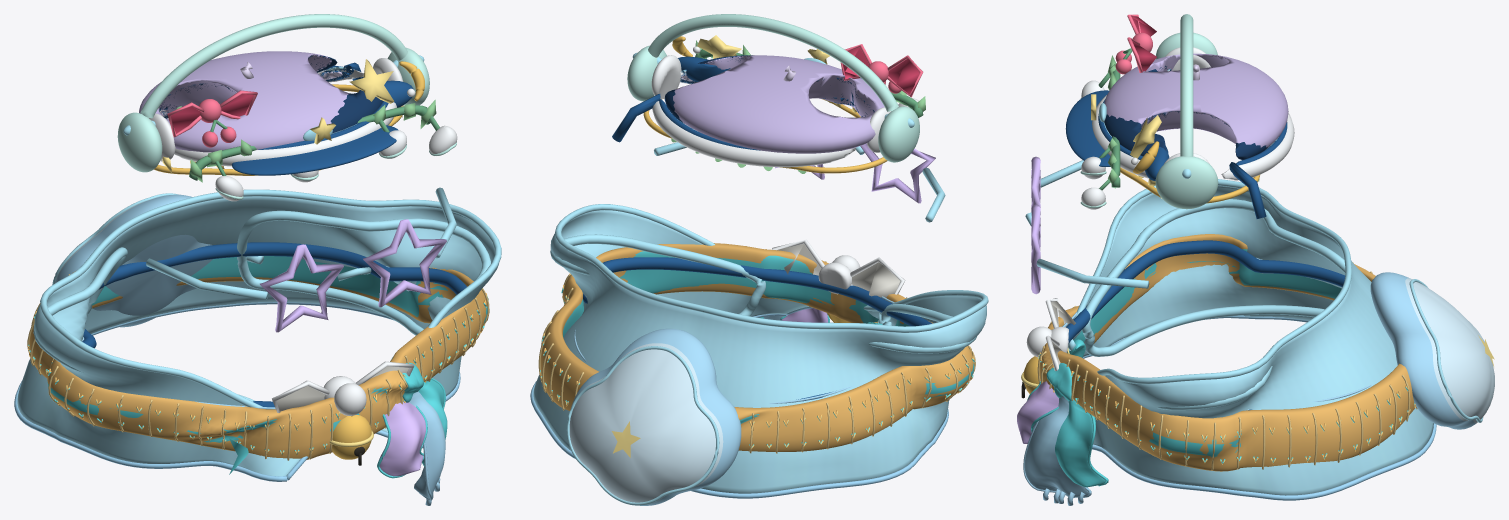
The model's file is nava-wardrobe-accessories-CACx7nh5.glb.
3 views of the same model, side by side, from view 1: azimuth 30°, elevation 25°; view 2: azimuth 150°, elevation 25°; view 3: azimuth 270°, elevation 25° (orthographic). The views are drawn at different scales.
Parts seen in each view (by area): view 1: soft opaque ice-blue cape cloth | accessory-raindrop-cape, v259 honey knitted yarn v259 cloth | honey-neck-warmer, mist lavender velvet | mist-beret, soft mint plush | mint-earmuffs, v259 aqua glass enamel v259 cloth | aurora-scarf, ice blue satin | accessory-cloud-backpack, ice blue satin | accessory-raindrop-cape, cloud-knit blue | cloud-knit highlight | accessory-cloud-bac, navy enamel textile | bell-collar, iridescent lilac | star-glasses, navy enamel textile | night-voyage-cap, v259 honey yarn highlights v259 cloth | honey-neck-warmer (+18 smaller); view 2: soft opaque ice-blue cape cloth | accessory-raindrop-cape, cloud-knit blue | cloud-knit highlight | accessory-cloud-bac, v259 honey knitted yarn v259 cloth | honey-neck-warmer, mist lavender velvet | mist-beret, soft mint plush | mint-earmuffs, ice blue satin | accessory-cloud-backpack, v259 aqua glass enamel v259 cloth | aurora-scarf, ice blue satin | accessory-raindrop-cape, navy enamel textile | bell-collar, snow ivory | sailor-hat, cape edge opaque blue | accessory-raindrop-cape, v259 honey yarn highlights v259 cloth | honey-neck-warmer (+12 smaller); view 3: soft opaque ice-blue cape cloth | accessory-raindrop-cape, v259 honey knitted yarn v259 cloth | honey-neck-warmer, cloud-knit blue | cloud-knit highlight | accessory-cloud-bac, mist lavender velvet | mist-beret, v259 aqua glass enamel v259 cloth | aurora-scarf, ice blue satin | accessory-cloud-backpack, soft mint plush | mint-earmuffs, ice blue satin | accessory-raindrop-cape, navy enamel textile | bell-collar, v259 cloud-knit blue v259 cloth | cloud-scarf, v259 honey yarn highlights v259 cloth | honey-neck-warmer, cape edge opaque blue | accessory-raindrop-cape (+14 smaller).
Part boxes in pixels (<box>): soft opaque ice-blue cape cloth | accessory-raindrop-cape: <box>17,196,498,476</box>; v259 honey knitted yarn v259 cloth | honey-neck-warmer: <box>27,267,487,459</box>; mist lavender velvet | mist-beret: <box>139,51,349,152</box>; soft mint plush | mint-earmuffs: <box>117,14,429,172</box>; v259 aqua glass enamel v259 cloth | aurora-scarf: <box>28,256,488,478</box>; ice blue satin | accessory-cloud-backpack: <box>33,193,490,401</box>; ice blue satin | accessory-raindrop-cape: <box>40,189,501,407</box>; cloud-knit blue | cloud-knit highlight | accessory-cloud-bac: <box>55,194,212,327</box>; navy enamel textile | bell-collar: <box>82,242,466,407</box>; iridescent lilac | star-glasses: <box>260,219,446,332</box>; navy enamel textile | night-voyage-cap: <box>162,71,398,175</box>; v259 honey yarn highlights v259 cloth | honey-neck-warmer: <box>27,274,489,460</box>; soft opaque ice-blue cape cloth | accessory-raindrop-cape: <box>533,210,986,493</box>; cloud-knit blue | cloud-knit highlight | accessory-cloud-bac: <box>569,328,741,505</box>; v259 honey knitted yarn v259 cloth | honey-neck-warmer: <box>539,243,974,451</box>; mist lavender velvet | mist-beret: <box>673,55,884,153</box>; soft mint plush | mint-earmuffs: <box>627,14,919,162</box>; ice blue satin | accessory-cloud-backpack: <box>550,234,976,505</box>; v259 aqua glass enamel v259 cloth | aurora-scarf: <box>540,251,974,447</box>; ice blue satin | accessory-raindrop-cape: <box>555,204,988,332</box>; navy enamel textile | bell-collar: <box>583,257,932,401</box>; snow ivory | sailor-hat: <box>652,71,855,167</box>; cape edge opaque blue | accessory-raindrop-cape: <box>530,306,948,498</box>; v259 honey yarn highlights v259 cloth | honey-neck-warmer: <box>538,243,975,453</box>; soft opaque ice-blue cape cloth | accessory-raindrop-cape: <box>1072,185,1433,495</box>; v259 honey knitted yarn v259 cloth | honey-neck-warmer: <box>1038,234,1416,471</box>; cloud-knit blue | cloud-knit highlight | accessory-cloud-bac: <box>1370,272,1494,429</box>; mist lavender velvet | mist-beret: <box>1104,53,1288,147</box>; v259 aqua glass enamel v259 cloth | aurora-scarf: <box>1027,249,1414,487</box>; ice blue satin | accessory-cloud-backpack: <box>1082,199,1483,422</box>; soft mint plush | mint-earmuffs: <box>1155,14,1218,209</box>; ice blue satin | accessory-raindrop-cape: <box>1073,179,1351,384</box>; navy enamel textile | bell-collar: <box>1066,240,1345,410</box>; v259 cloud-knit blue v259 cloth | cloud-scarf: <box>1023,396,1091,505</box>; v259 honey yarn highlights v259 cloth | honey-neck-warmer: <box>1037,262,1417,470</box>; cape edge opaque blue | accessory-raindrop-cape: <box>1082,315,1436,500</box>.
Bounding box in the file's own units: 1.61 × 1.57 × 1.6.
Materials: 29 (1 with a texture image).
